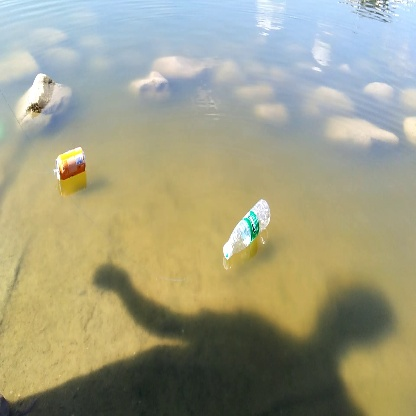bottle: (214, 194, 281, 266), (51, 144, 94, 185)
